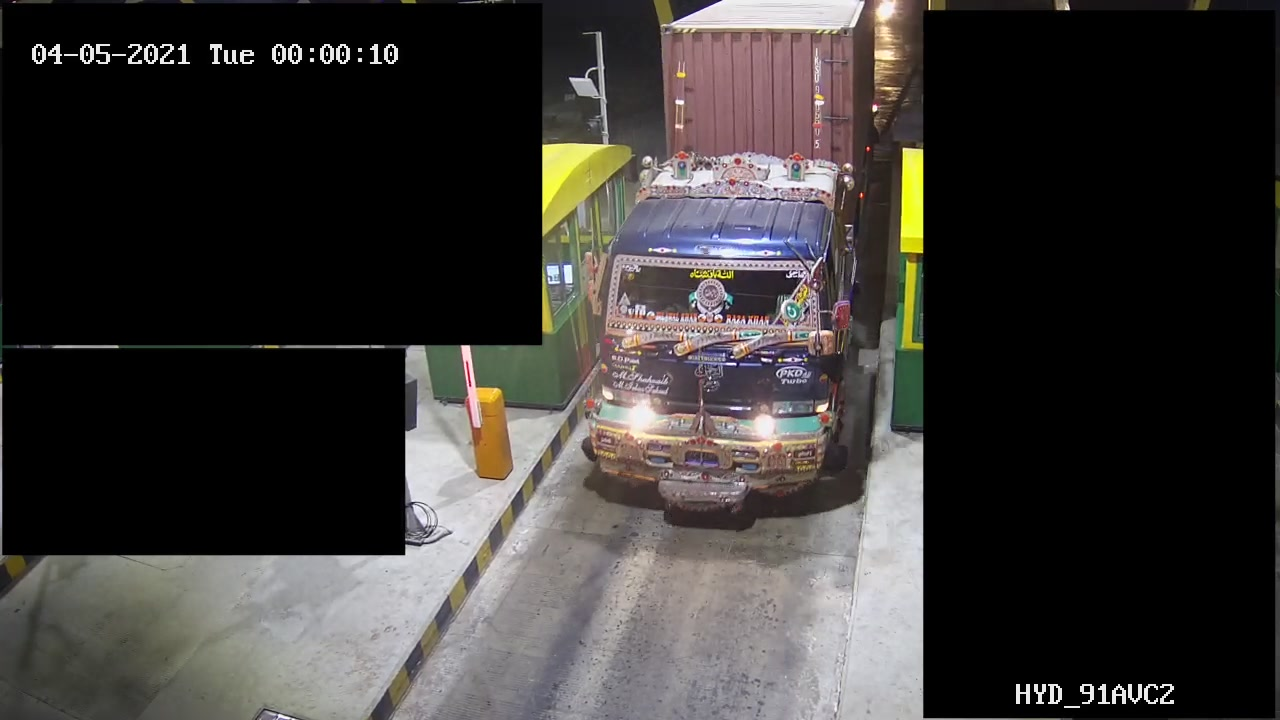F6: (578, 1, 881, 525)
